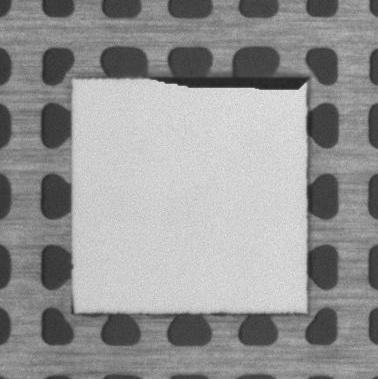DIE_BROKEN: (145, 71, 312, 89)
